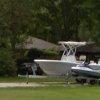Boat: (68, 55, 100, 87)
